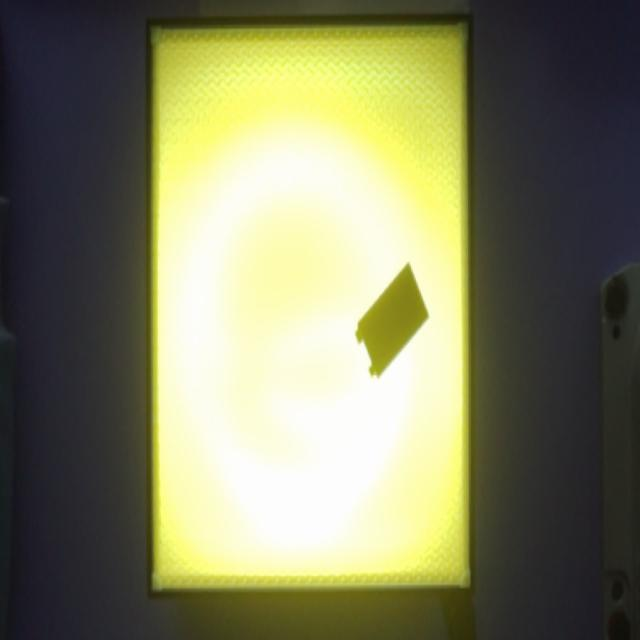bateria: (354, 260, 428, 378)
mesa: (146, 14, 476, 598)
